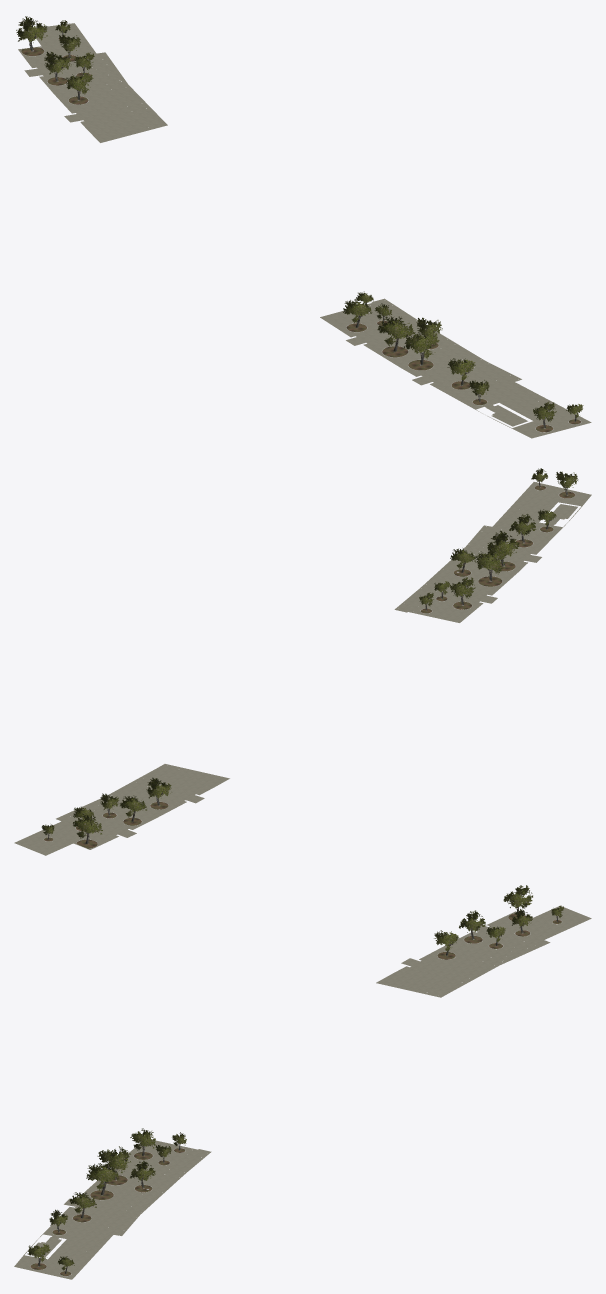
3 views of the same model, one above another, from view 1: azimuth 30°, elevation 25°; view 2: azimuth 150°, elevation 25°; view 3: azimuth 330°, elevation 25° (orthographic). The views are drawn at different scales.
Visible parts, largest first — view 1: SkyPark garden pavers, Island tree branch clusters, Garden soil; view 2: SkyPark garden pavers, Island tree branch clusters, Garden soil; view 3: SkyPark garden pavers, Island tree branch clusters, Garden soil.
Part boxes in pixels (box(x1,y1,x2,y2)): SkyPark garden pavers: box(18, 23, 591, 438); Island tree branch clusters: box(16, 16, 583, 421); Garden soil: box(21, 36, 580, 432); SkyPark garden pavers: box(14, 482, 591, 855); Island tree branch clusters: box(41, 468, 578, 838); Garden soil: box(44, 485, 575, 848); SkyPark garden pavers: box(14, 905, 591, 1279); Island tree branch clusters: box(27, 885, 563, 1270); Garden soil: box(30, 913, 561, 1275).
Bounding box in the file's own units: 27.74 × 7.57 × 215.
5 materials, 4 textured.
